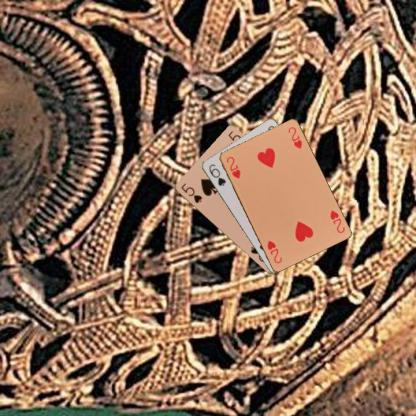2h: (223, 154, 242, 181), (327, 208, 346, 235)
5s: (178, 181, 203, 204)
6s: (206, 161, 227, 187)
